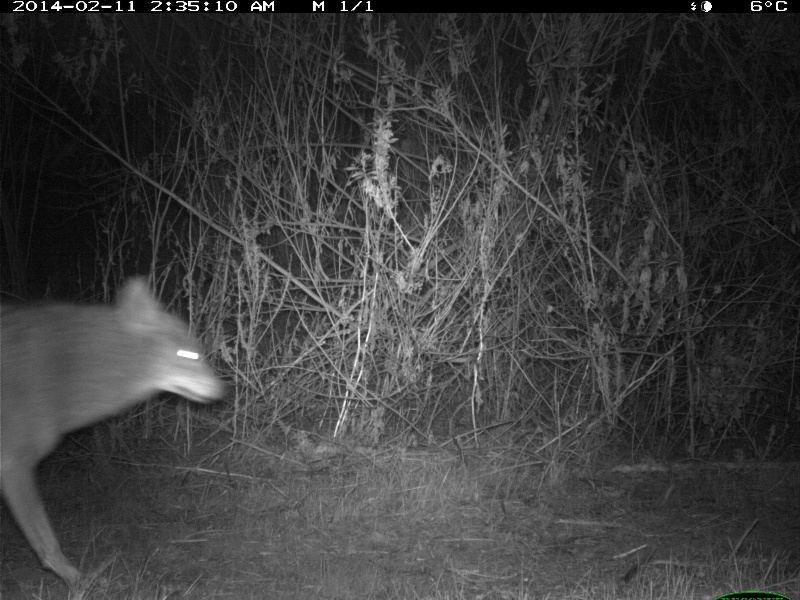coyote: (1, 269, 225, 591)
